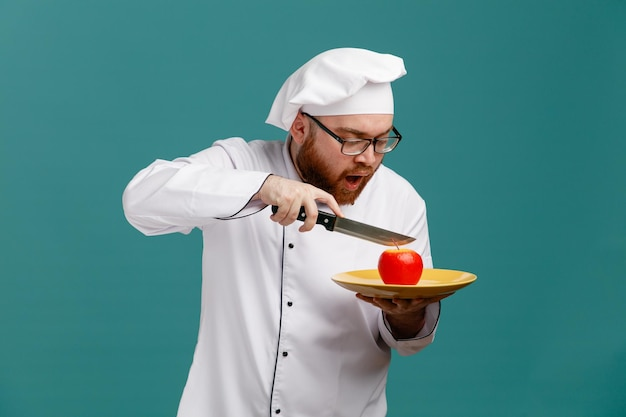knife: (270, 203, 417, 246)
